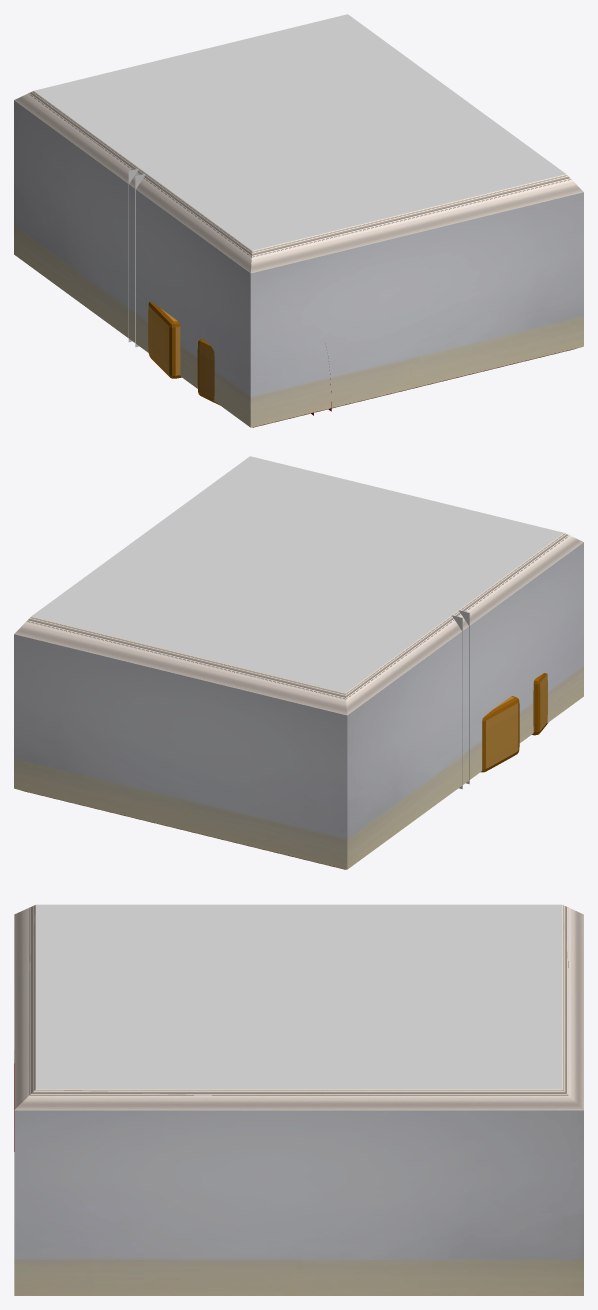
Rendered from StoreBox.fbx.
3 views of the same model, one above another, from view 1: azimuth 30°, elevation 25°; view 2: azimuth 150°, elevation 25°; view 3: azimuth 270°, elevation 25° (orthographic). The views are drawn at different scales.
Parts seen in each view (by area): view 1: Store, BrBox1, BrBox0; view 2: Store, BrBox1, BrBox0; view 3: Store.
Boxes of the visible parts, box(x1,y1,x2,y2) form: Store: box(14, 14, 583, 427); BrBox1: box(148, 301, 181, 378); BrBox0: box(197, 339, 218, 404); Store: box(14, 456, 583, 869); BrBox1: box(481, 696, 519, 772); BrBox0: box(532, 673, 548, 735); Store: box(14, 904, 583, 1295).
Size of the model in its own units: 601 by 288 by 723.
